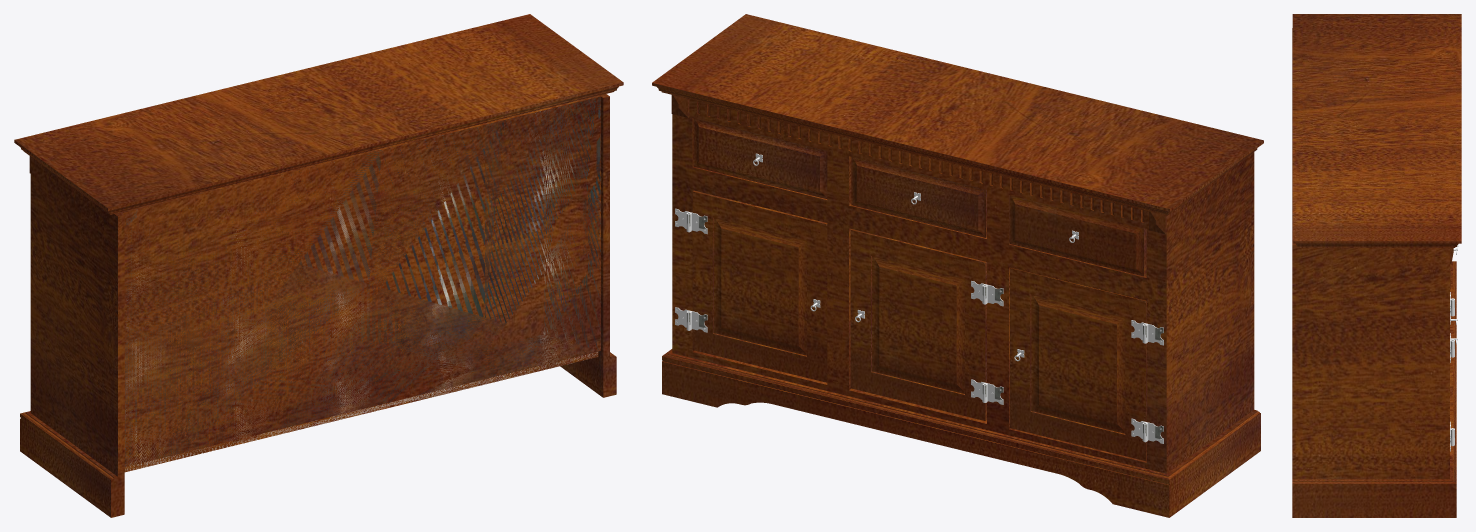
3 views of the same model, side by side, from view 1: azimuth 30°, elevation 25°; view 2: azimuth 150°, elevation 25°; view 3: azimuth 270°, elevation 25° (orthographic). The views are drawn at different scales.
Visible parts, largest first — view 1: mesh27_mesh27-geometry, mesh11_mesh11-geometry, mesh87_mesh87-geometry; view 2: mesh27_mesh27-geometry, mesh24_mesh24-geometry, mesh11_mesh11-geometry, mesh2_mesh2-geometry, mesh1_mesh1-geometry, mesh23_mesh23-geometry, mesh22_mesh22-geometry, mesh84_mesh84-geometry; view 3: mesh27_mesh27-geometry, mesh11_mesh11-geometry, mesh23_mesh23-geometry.
Part boxes in pixels (bbox=[...]): mesh27_mesh27-geometry: bbox=[20, 94, 616, 517]; mesh11_mesh11-geometry: bbox=[14, 14, 623, 214]; mesh87_mesh87-geometry: bbox=[124, 351, 598, 472]; mesh27_mesh27-geometry: bbox=[662, 99, 1260, 517]; mesh24_mesh24-geometry: bbox=[692, 190, 1146, 460]; mesh11_mesh11-geometry: bbox=[652, 14, 1263, 215]; mesh2_mesh2-geometry: bbox=[693, 118, 986, 237]; mesh1_mesh1-geometry: bbox=[852, 157, 1146, 276]; mesh23_mesh23-geometry: bbox=[675, 208, 1148, 442]; mesh22_mesh22-geometry: bbox=[692, 212, 1163, 443]; mesh84_mesh84-geometry: bbox=[671, 95, 1166, 234]; mesh27_mesh27-geometry: bbox=[1292, 28, 1456, 517]; mesh11_mesh11-geometry: bbox=[1292, 14, 1461, 247]; mesh23_mesh23-geometry: bbox=[1450, 298, 1454, 451].
Size of the model in its own units: 0.8365 by 0.4807 by 0.2632.
